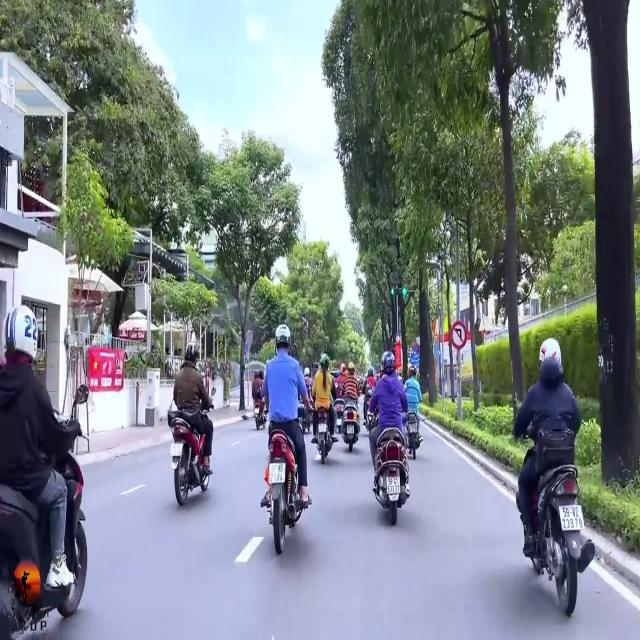bien_trang: (560, 508, 585, 531), (266, 461, 286, 483), (386, 475, 401, 496)
